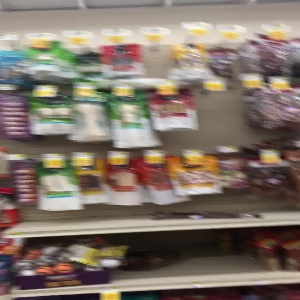void: (179, 226, 251, 278)
